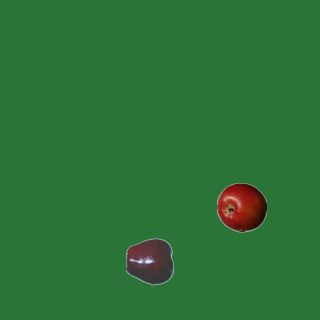Apple Braeburn: (216, 182, 266, 232)
Apple Red Delicious: (125, 236, 175, 286)
